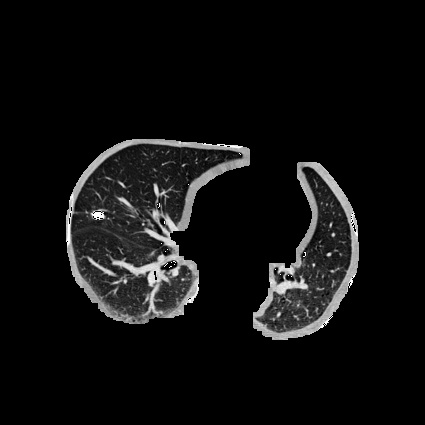PN: (93, 210, 103, 220)
